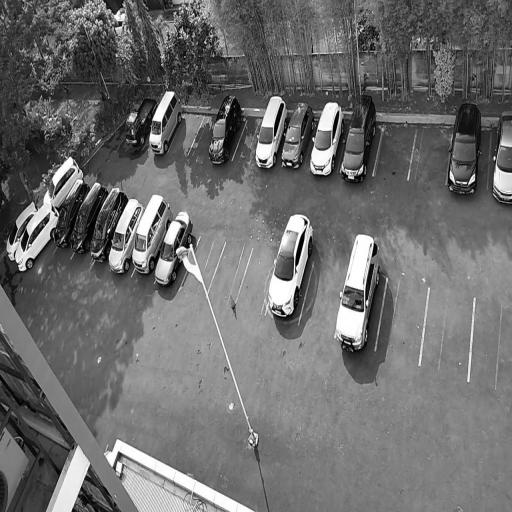Car: (333, 228, 384, 353), (263, 208, 317, 321), (336, 89, 381, 184), (131, 190, 175, 276), (152, 205, 197, 287), (446, 99, 484, 193), (307, 96, 349, 177), (87, 184, 130, 263), (13, 201, 59, 274), (68, 179, 111, 256), (205, 90, 248, 165), (106, 195, 146, 275), (252, 93, 293, 169), (279, 97, 319, 170), (52, 176, 91, 250), (146, 86, 187, 155), (42, 153, 85, 209), (5, 197, 39, 263), (490, 107, 512, 205), (124, 89, 159, 148)
Space Available: (420, 286, 474, 381), (375, 276, 429, 364), (469, 296, 512, 386), (299, 258, 347, 334), (236, 245, 278, 311), (208, 240, 253, 301), (180, 236, 225, 296), (373, 122, 416, 179), (409, 127, 452, 181), (167, 113, 204, 154), (234, 117, 262, 161), (188, 115, 216, 156)
